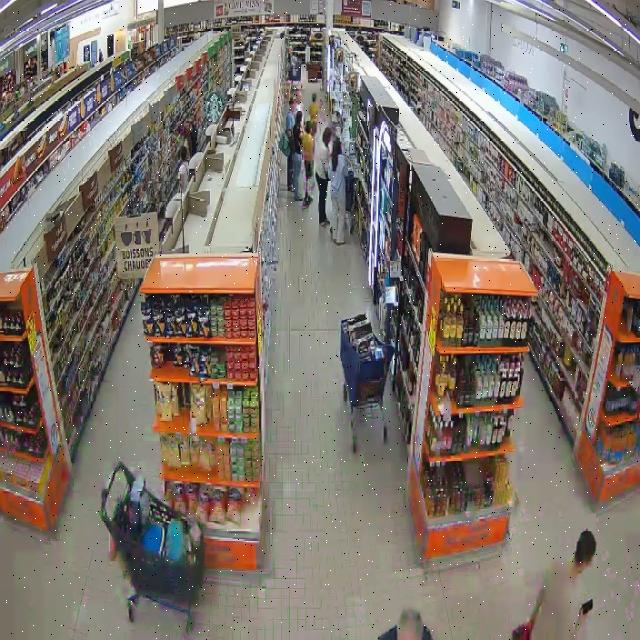hands: (578, 613, 589, 627), (527, 619, 534, 629)
person: (530, 529, 596, 639), (330, 138, 347, 245), (316, 127, 332, 226), (379, 610, 432, 639), (302, 121, 314, 207), (292, 111, 303, 200), (286, 98, 295, 192), (179, 146, 188, 193), (310, 94, 319, 136), (183, 121, 193, 157), (189, 119, 198, 156)
